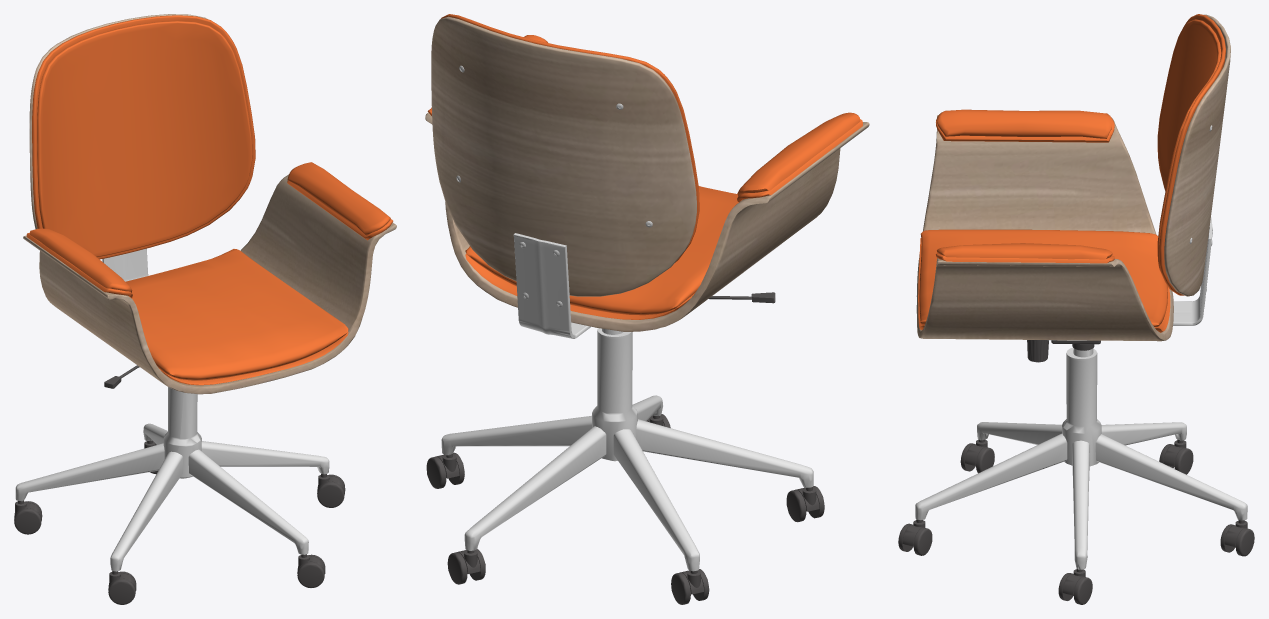
File: Chair_01_v01.glb
3 renders of one model, left to right at view 1: azimuth 30°, elevation 25°; view 2: azimuth 150°, elevation 25°; view 3: azimuth 270°, elevation 25°, orthographic. The views are drawn at different scales.
Visible parts, largest first — view 1: Mesh_SeatSupport002_2, Mesh_Adjustment_Knob_1, Mesh_Adjustment_Knob_3, Node_Legs, Node_Tyres, Mesh_SeatSupport002, Mesh_SeatSupport002_1; view 2: Mesh_SeatSupport002_1, Node_Legs, Mesh_Adjustment_Knob_1, Mesh_Adjustment_Knob_3, Mesh_SeatSupport002, Node_Tyres, Mesh_SeatSupport002_2; view 3: Mesh_Adjustment_Knob_3, Mesh_Adjustment_Knob_1, Node_Legs, Mesh_SeatSupport002_1, Mesh_SeatSupport002_2, Node_Tyres, Mesh_SeatSupport002, Mesh_Adjustment_Knob.
Part boxes in pixels (x1,y1,x2,y2): Mesh_SeatSupport002_2: (32,15,255,259); Mesh_Adjustment_Knob_1: (26,162,393,385); Mesh_Adjustment_Knob_3: (23,174,396,394); Node_Legs: (15,387,329,571); Node_Tyres: (14,440,345,604); Mesh_SeatSupport002: (102,248,148,281); Mesh_SeatSupport002_1: (29,14,216,228); Mesh_SeatSupport002_1: (431,16,696,296); Node_Legs: (441,328,813,571); Mesh_Adjustment_Knob_1: (427,35,862,319); Mesh_Adjustment_Knob_3: (425,112,869,331); Mesh_SeatSupport002: (456,65,652,338); Node_Tyres: (426,414,824,604); Mesh_SeatSupport002_2: (441,14,699,262); Mesh_Adjustment_Knob_3: (916,115,1173,341); Mesh_Adjustment_Knob_1: (918,109,1170,332); Node_Legs: (915,347,1247,569); Mesh_SeatSupport002_1: (1164,14,1230,296); Mesh_SeatSupport002_2: (1157,14,1225,295); Node_Tyres: (898,439,1254,604); Mesh_SeatSupport002: (1173,125,1212,325); Mesh_Adjustment_Knob: (1027,340,1100,362).
Bounding box in the file's own units: 0.7806 × 1.13 × 0.7604.
4 materials, 1 textured.
